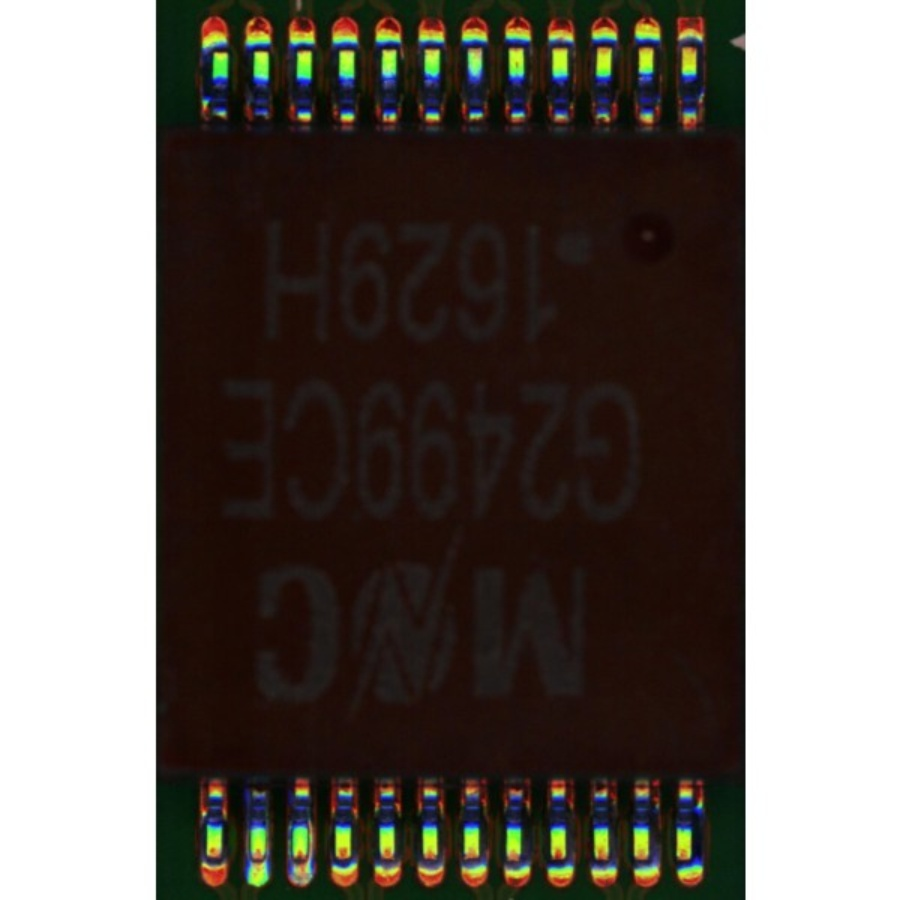Bad_qiaojiao: (285, 814, 292, 860), (308, 816, 314, 859)
